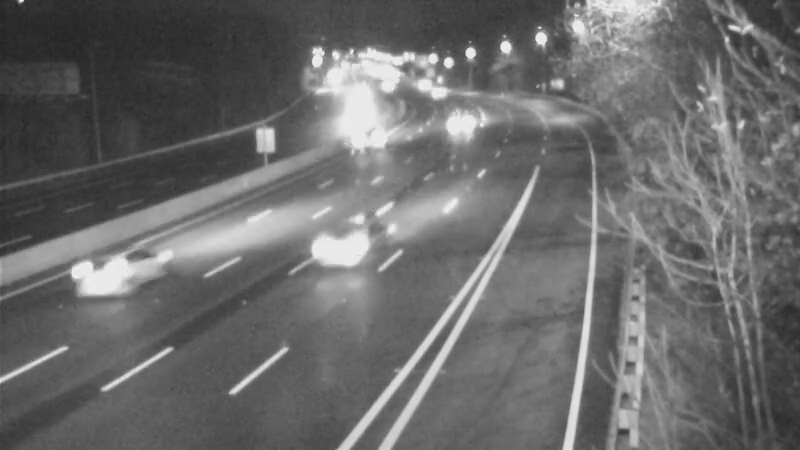vehicle: (306, 205, 386, 285), (64, 231, 144, 311), (396, 60, 446, 110), (415, 67, 465, 117), (437, 95, 487, 145), (347, 115, 397, 165)
